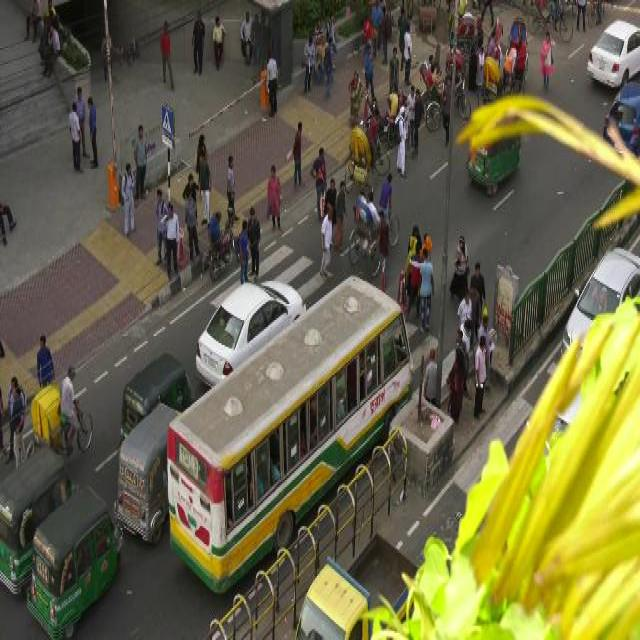vehicle: (167, 273, 416, 600), (25, 483, 123, 639), (193, 269, 308, 391), (1, 447, 82, 604), (1, 445, 82, 602), (112, 397, 184, 548), (114, 352, 196, 450), (24, 379, 96, 466), (348, 197, 403, 279), (582, 18, 640, 94), (343, 124, 390, 198), (601, 84, 640, 150)
